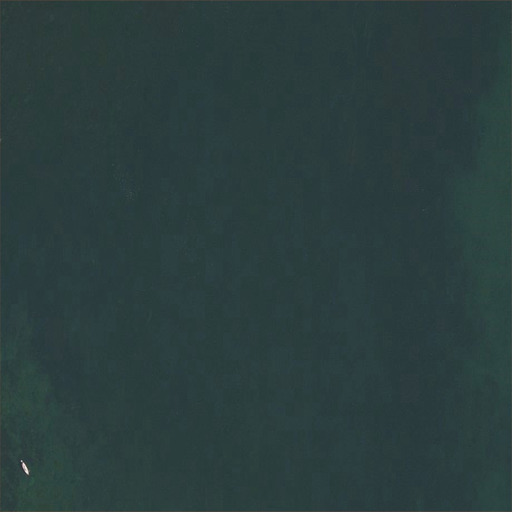ship: (19, 457, 30, 477)
